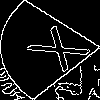X: (25, 25, 100, 80)
